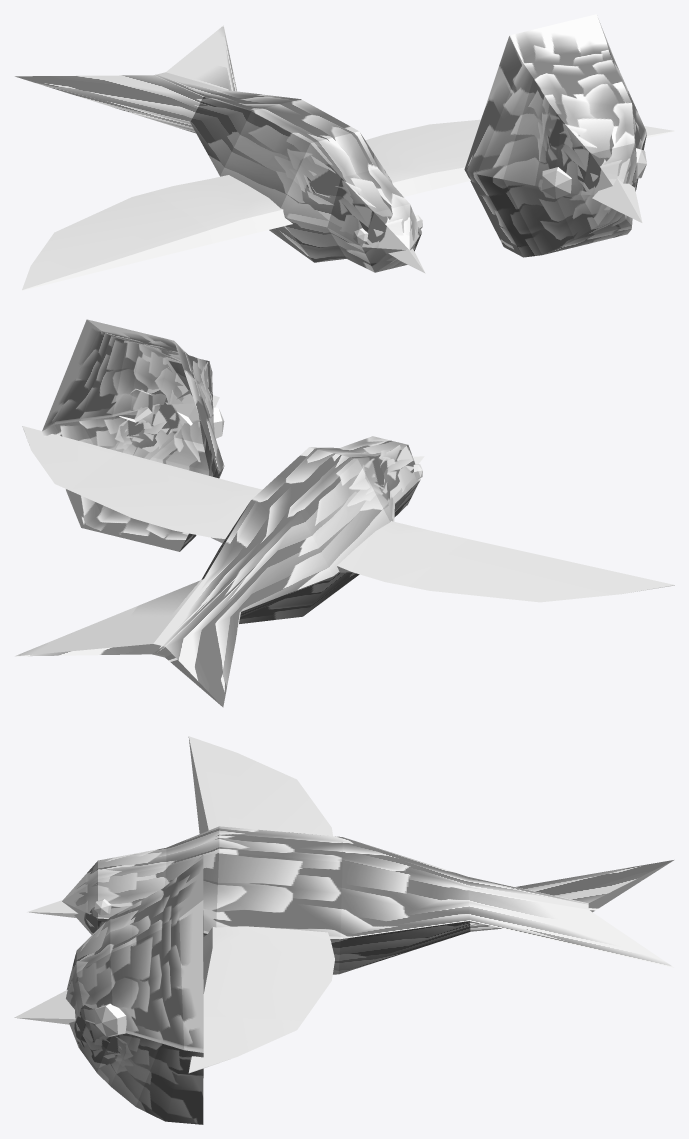
The model's file is _birdMedFar_test.fbx.
3 views of the same model, one above another, from view 1: azimuth 30°, elevation 25°; view 2: azimuth 150°, elevation 25°; view 3: azimuth 270°, elevation 25° (orthographic). The views are drawn at different scales.
Visible parts, largest first — view 1: BirdHead_Far_frozen1, BirdHead_Med_frozen; view 2: BirdHead_Far_frozen1, BirdHead_Med_frozen; view 3: BirdHead_Far_frozen1, BirdHead_Med_frozen.
Part boxes in pixels (<box>): BirdHead_Far_frozen1: <box>15,25,674,290</box>; BirdHead_Med_frozen: <box>464,14,646,257</box>; BirdHead_Far_frozen1: <box>15,426,674,707</box>; BirdHead_Med_frozen: <box>42,319,224,551</box>; BirdHead_Far_frozen1: <box>27,736,673,1073</box>; BirdHead_Med_frozen: <box>14,855,203,1124</box>.
Size of the model in its own units: 43.31 by 13.32 by 35.9.
